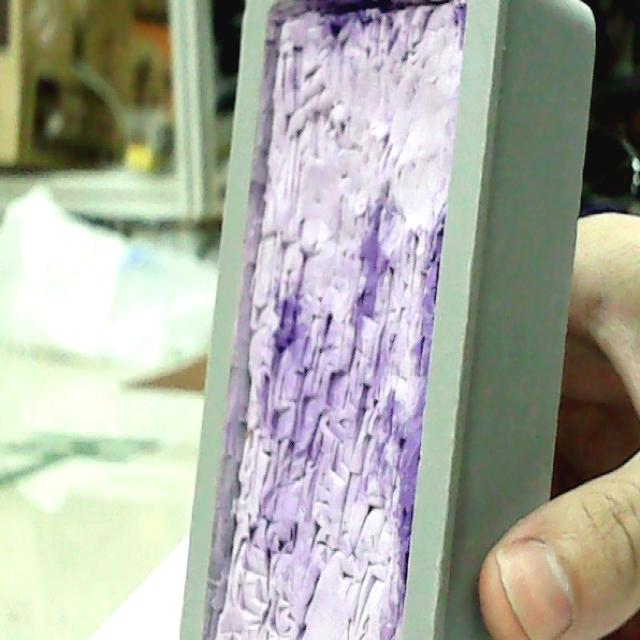block: (175, 0, 608, 640)
